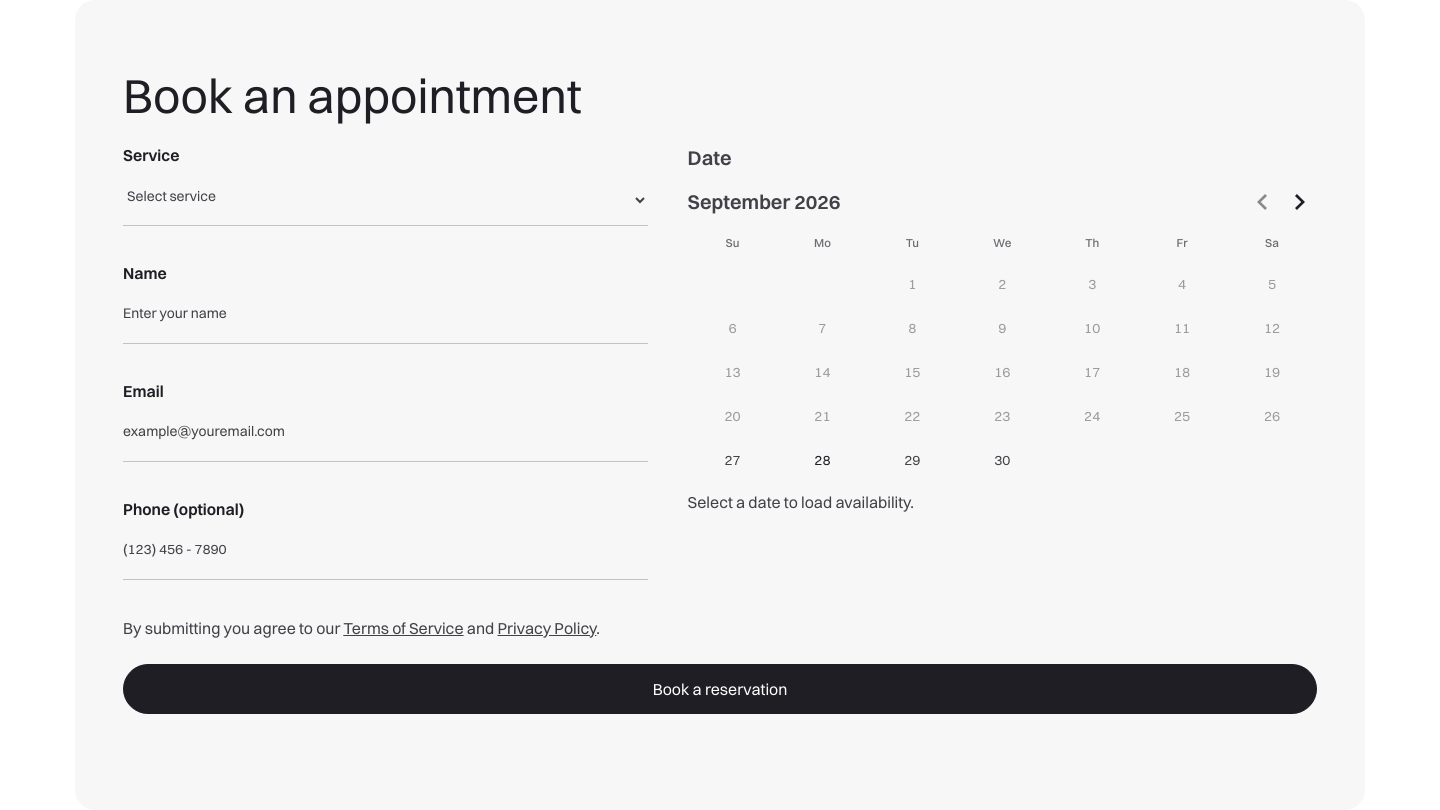
it: Reservation page › shows validation errors for missing required fields
In the field labelled "Name": (385, 318) x1=123 y1=292 x2=648 y2=344, type "A"
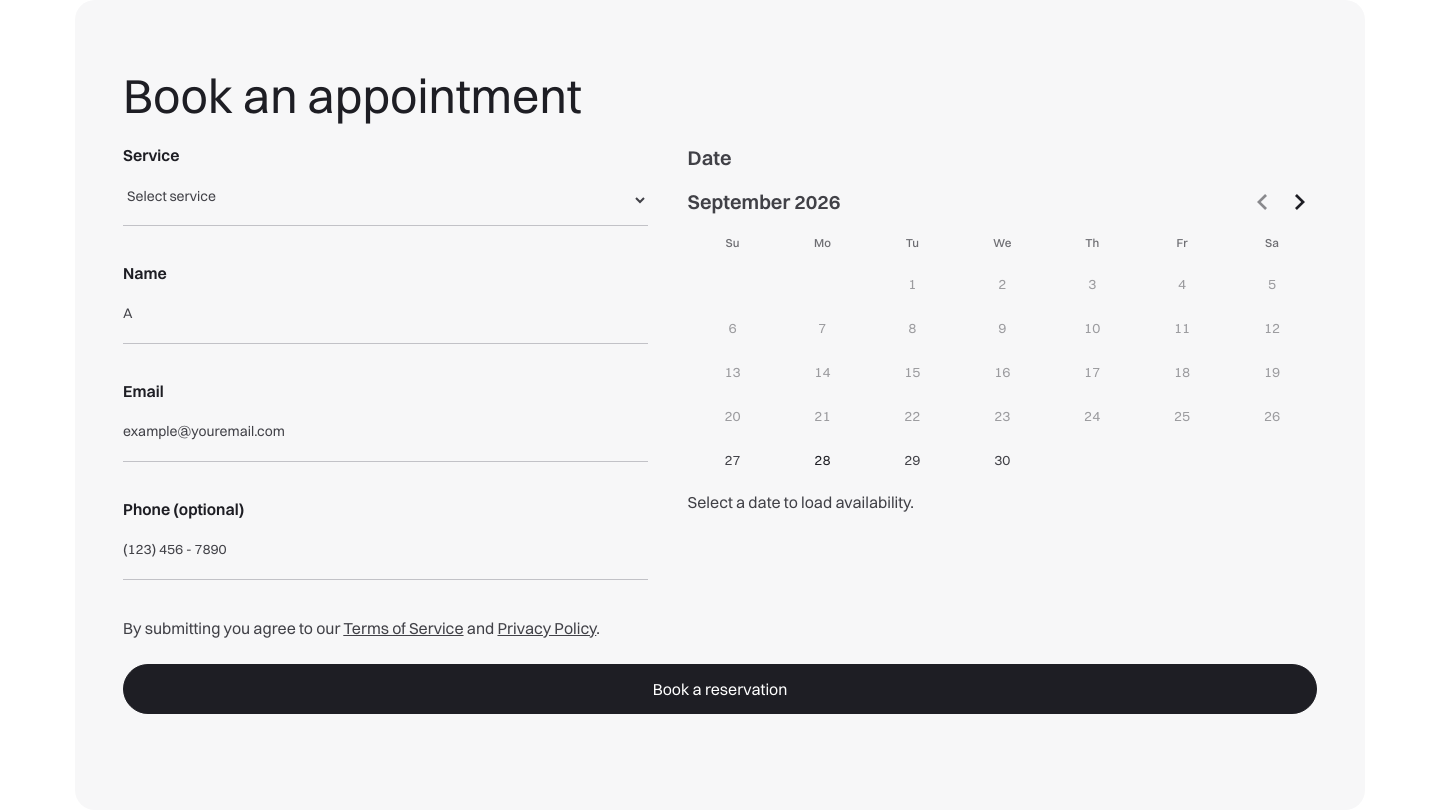
Click the button "Book a reservation": (720, 689) x1=123 y1=664 x2=1317 y2=714
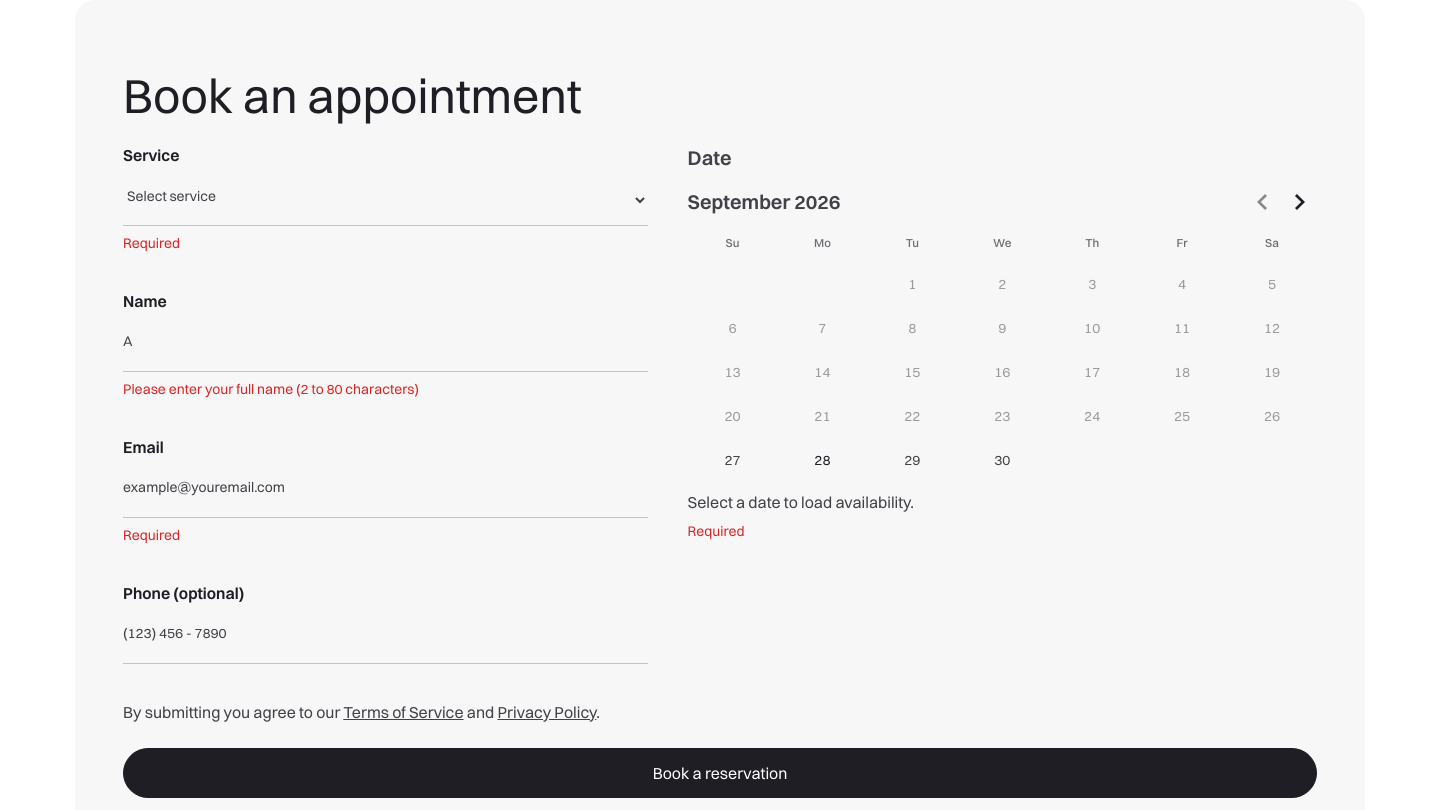
Expected: the text "Please enter your full name (2 to 80 characters)" is shown, x1=123 y1=380 x2=419 y2=398
